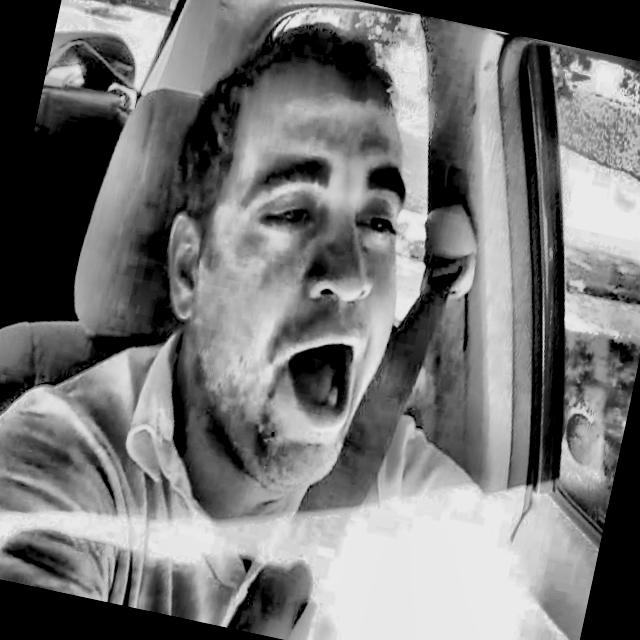open_mouth: (268, 319, 374, 443)
